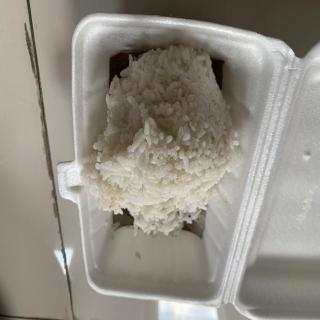Nasi: (83, 50, 239, 236)
